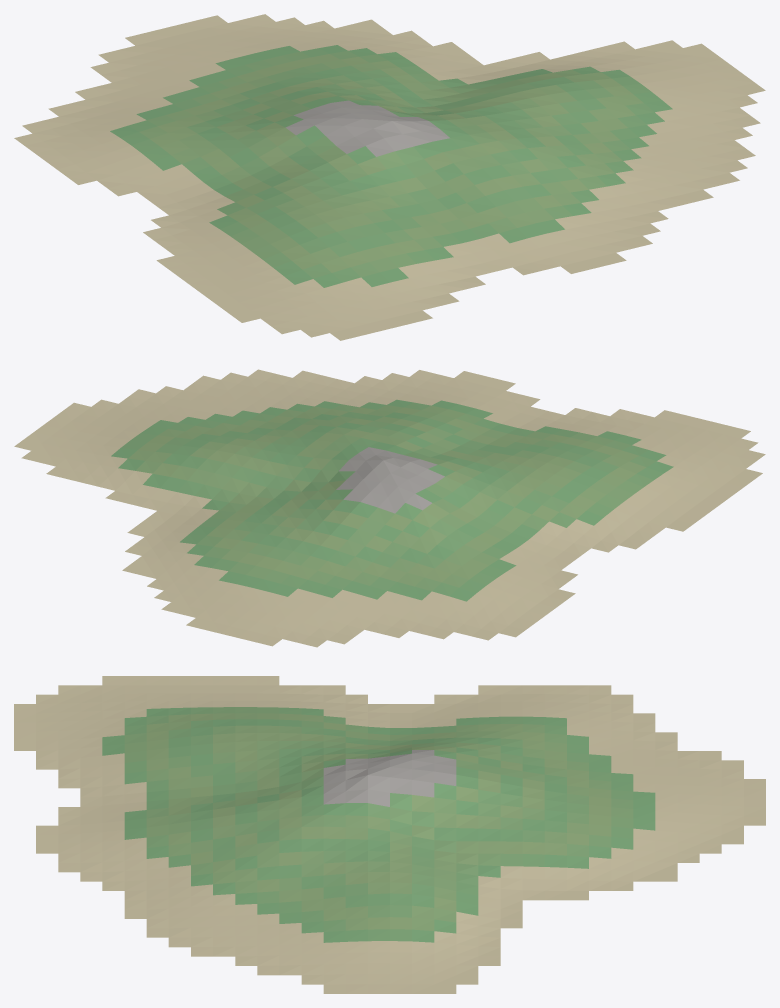
File: island_alpha.glb
3 renders of one model, top to bottom at view 1: azimuth 30°, elevation 25°; view 2: azimuth 150°, elevation 25°; view 3: azimuth 270°, elevation 25°, orthographic. The views are drawn at different scales.
Visible parts, largest first — view 1: island_alpha; view 2: island_alpha; view 3: island_alpha.
Part boxes in pixels (x1,y1,x2,y2): island_alpha: (14, 14, 765, 340); island_alpha: (14, 369, 765, 647); island_alpha: (14, 676, 765, 993).
Size of the model in its own units: 179 by 10.84 by 179.
